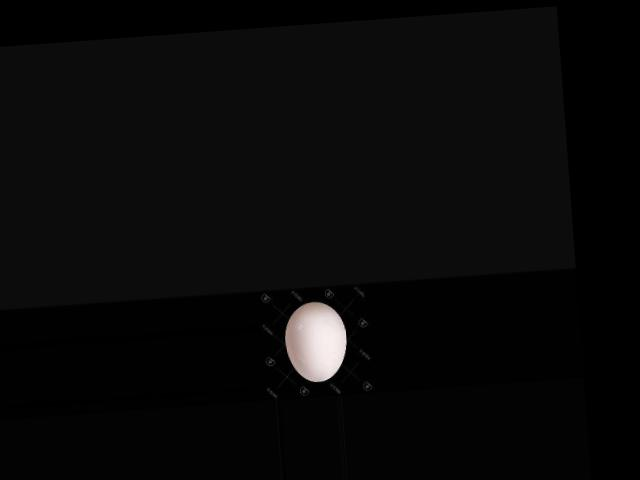egg: (284, 300, 349, 383)
